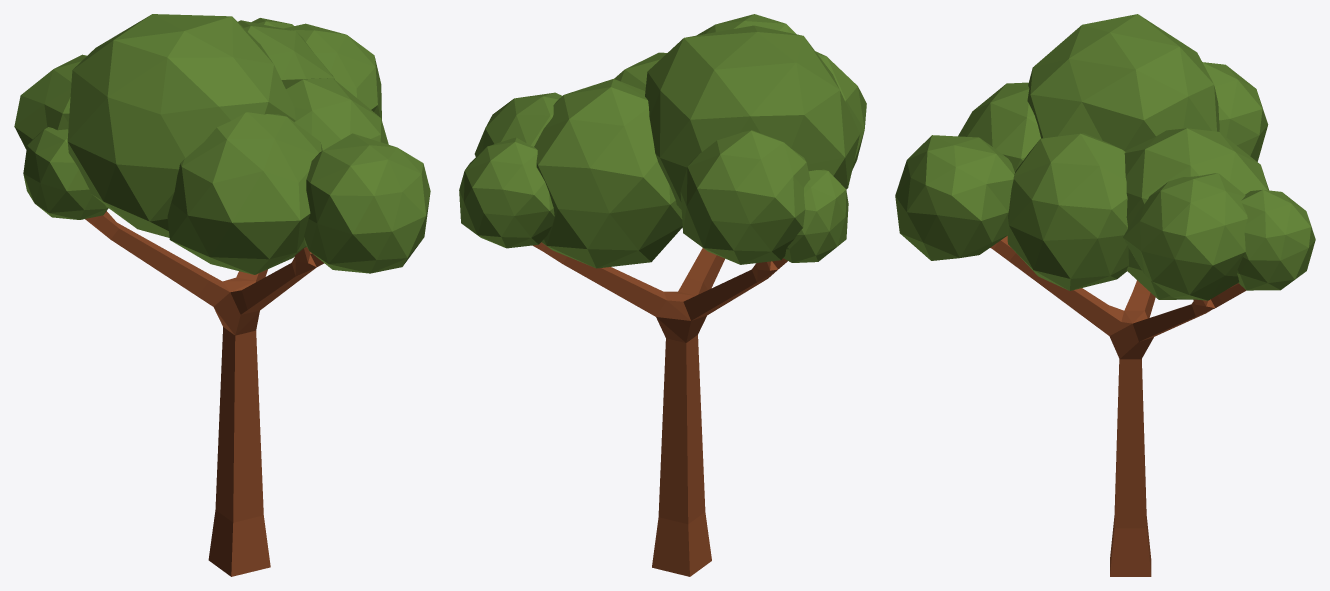
File: tree03.fbx
The picture shows the model from 3 angles, left to right: view 1: azimuth 30°, elevation 25°; view 2: azimuth 150°, elevation 25°; view 3: azimuth 270°, elevation 25°; orthographic projection. The views are drawn at different scales.
Parts seen in each view (by area): view 1: Object_6, Object_4; view 2: Object_6, Object_4; view 3: Object_6, Object_4.
Boxes of the visible parts, x1,y1,x2,y2 form: Object_6: (14, 14, 430, 274); Object_4: (85, 211, 324, 576); Object_6: (459, 14, 866, 268); Object_4: (533, 242, 787, 576); Object_6: (895, 14, 1315, 300); Object_4: (990, 236, 1246, 576).
Size of the model in its own units: 576 by 869 by 654.
